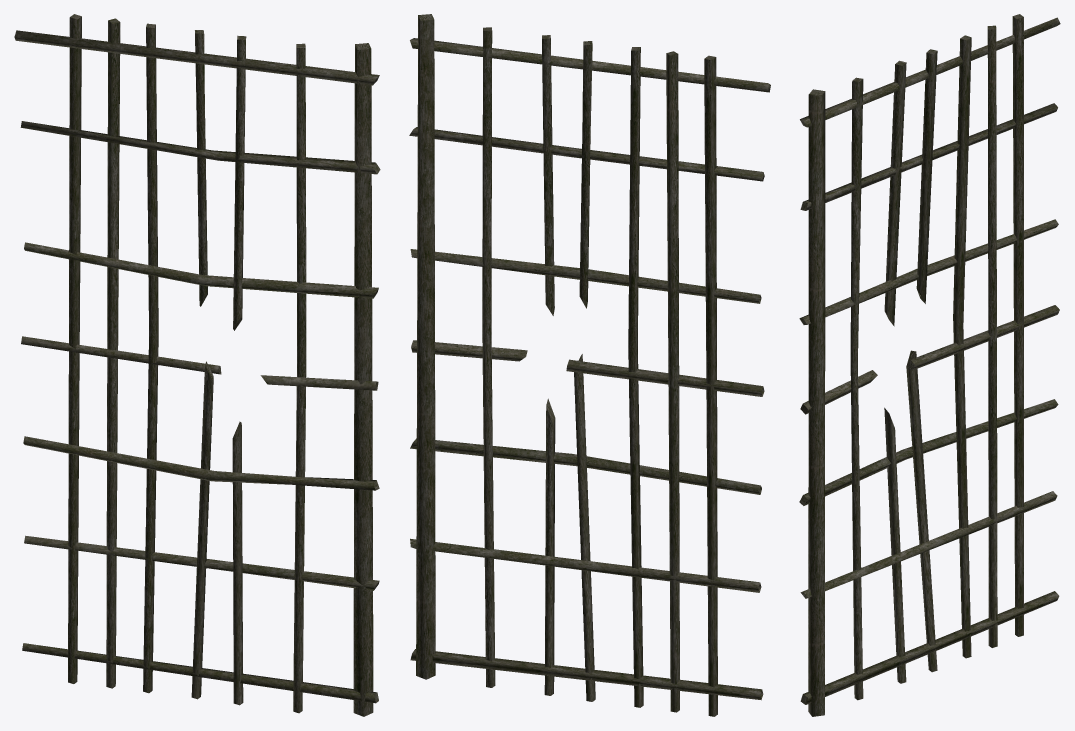
Rendered from TI_Roof_Frame_02.fbx.
The picture shows the model from 3 angles, left to right: view 1: azimuth 30°, elevation 25°; view 2: azimuth 210°, elevation 25°; view 3: azimuth 270°, elevation 25°; orthographic projection. The views are drawn at different scales.
Parts seen in each view (by area): view 1: TI_Roof_Frame_02; view 2: TI_Roof_Frame_02; view 3: TI_Roof_Frame_02.
Boxes of the visible parts, left/top/right/bottom form: TI_Roof_Frame_02: left=14, top=14, right=380, bottom=716; TI_Roof_Frame_02: left=409, top=14, right=770, bottom=716; TI_Roof_Frame_02: left=799, top=14, right=1060, bottom=716.
Bounding box in the file's own units: 3.6 × 9.9 × 3.75.
